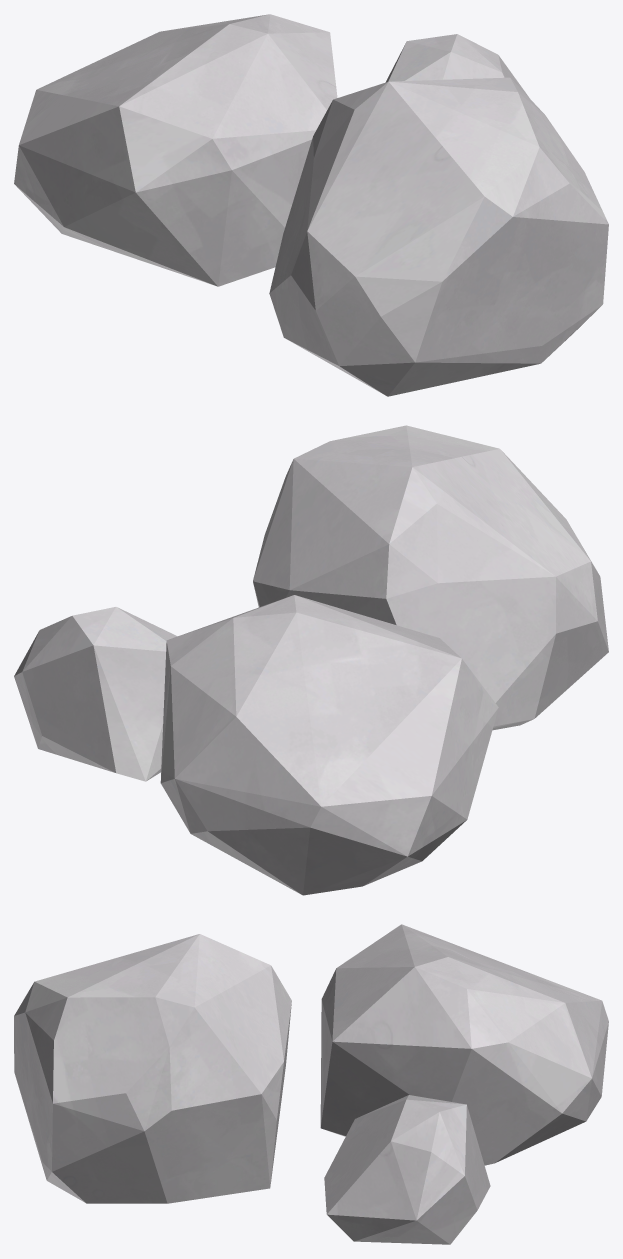
The model's file is rock-round.glb.
3 renders of one model, top to bottom at view 1: azimuth 30°, elevation 25°; view 2: azimuth 150°, elevation 25°; view 3: azimuth 270°, elevation 25°, orthographic. The views are drawn at different scales.
Visible parts, largest first — view 1: prop_0e529ba3; view 2: prop_0e529ba3; view 3: prop_0e529ba3.
Boxes of the visible parts, bbox=[...] form: prop_0e529ba3: bbox=[14, 14, 608, 396]; prop_0e529ba3: bbox=[14, 425, 608, 895]; prop_0e529ba3: bbox=[14, 924, 608, 1244].
Bounding box in the file's own units: 1.34 × 0.6725 × 1.63.
Materials: 1 (1 with a texture image).
